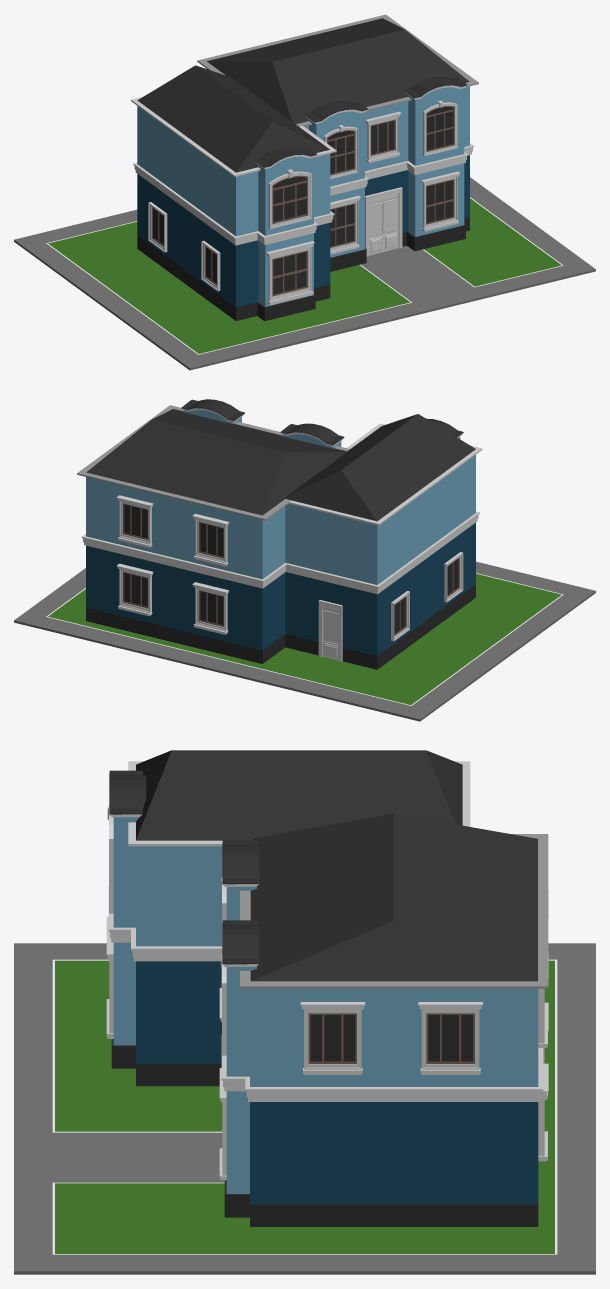
3 views of the same model, one above another, from view 1: azimuth 30°, elevation 25°; view 2: azimuth 150°, elevation 25°; view 3: azimuth 270°, elevation 25° (orthographic). The views are drawn at different scales.
Visible parts, largest first — view 1: house_09.001; view 2: house_09.001; view 3: house_09.001.
Part boxes in pixels (bbox=[...]): house_09.001: bbox=[14, 14, 595, 370]; house_09.001: bbox=[14, 399, 595, 721]; house_09.001: bbox=[14, 750, 595, 1274].
Size of the model in its own units: 20 by 8.58 by 15.
1 material, 1 textured.
